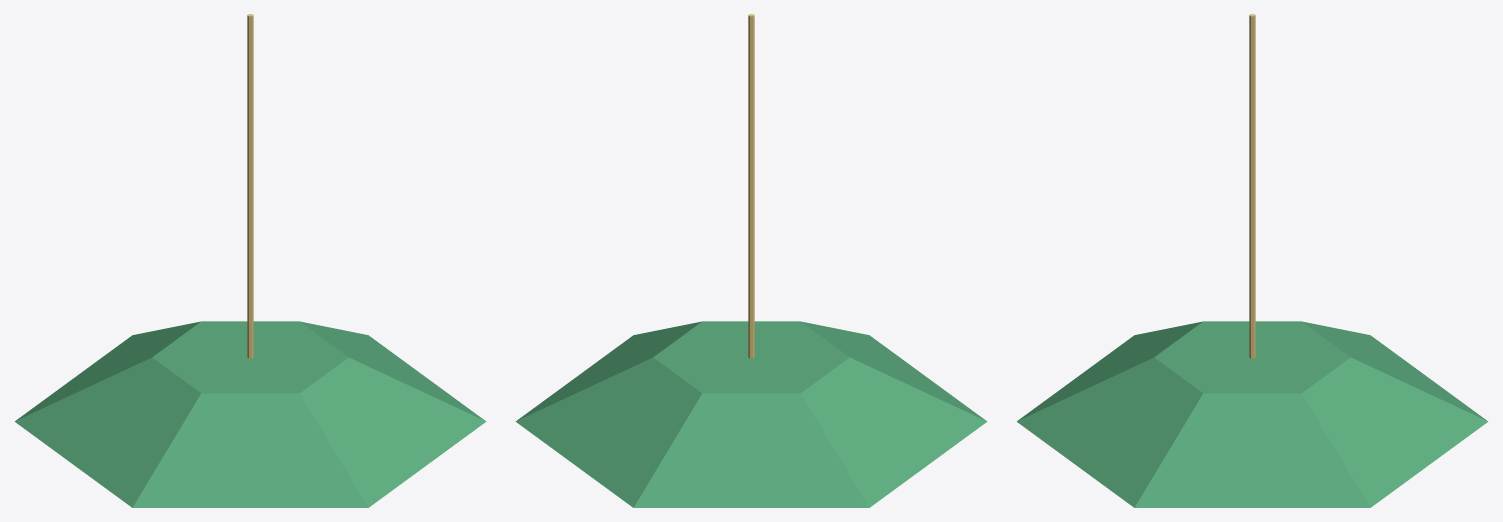
Rendered from casino_lamp.glb.
The picture shows the model from 3 angles, left to right: view 1: azimuth 30°, elevation 25°; view 2: azimuth 150°, elevation 25°; view 3: azimuth 270°, elevation 25°; orthographic projection.
Parts seen in each view (by area): view 1: casino_lamp; view 2: casino_lamp; view 3: casino_lamp.
Part boxes in pixels (x1=…): casino_lamp: x1=14, y1=14, x2=486, y2=507; casino_lamp: x1=515, y1=14, x2=987, y2=507; casino_lamp: x1=1016, y1=14, x2=1488, y2=507.
Bounding box in the file's own units: 1.04 × 1.16 × 1.2.
